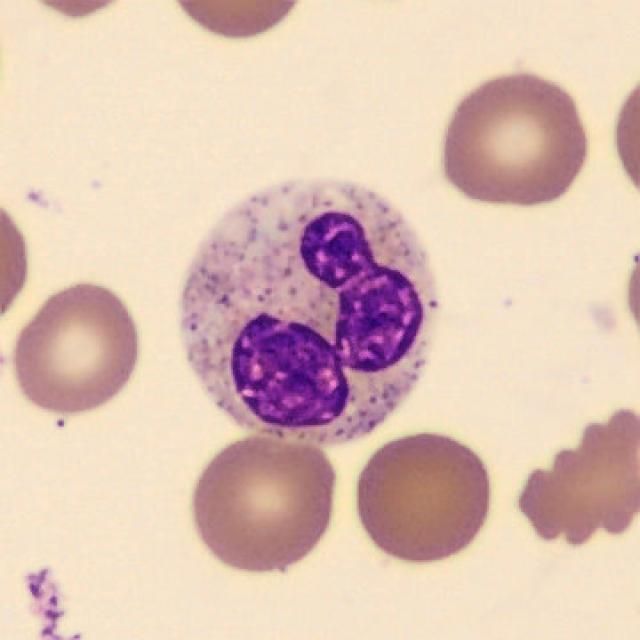Neutrofilo segmentado: (180, 178, 434, 448)
